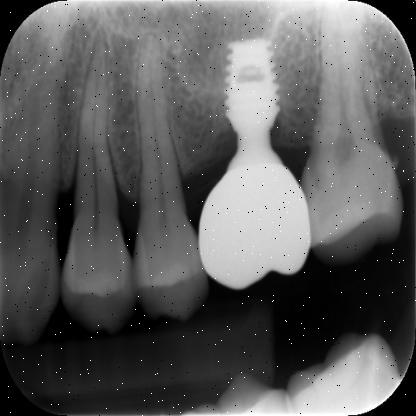Bicon: (222, 32, 284, 132)
